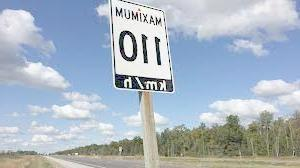speed limit sign: (108, 1, 175, 93)
